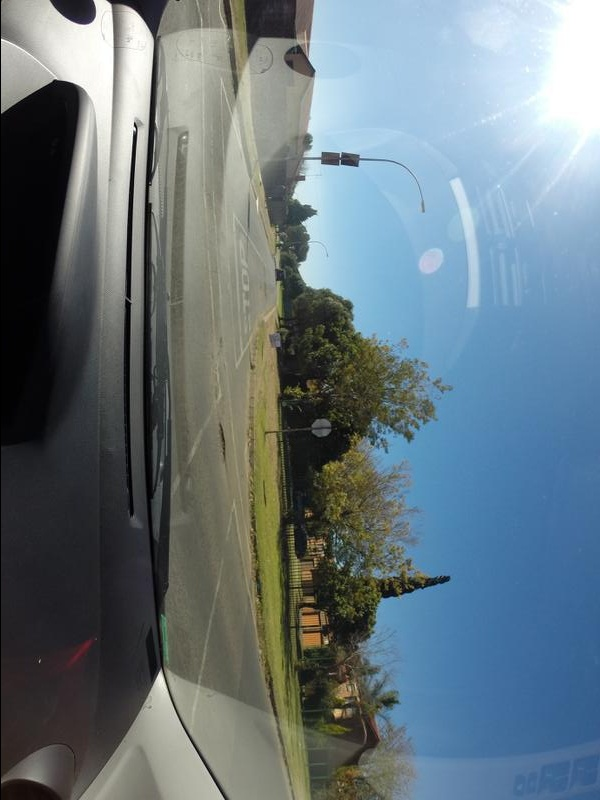pothole: (212, 401, 238, 470)
